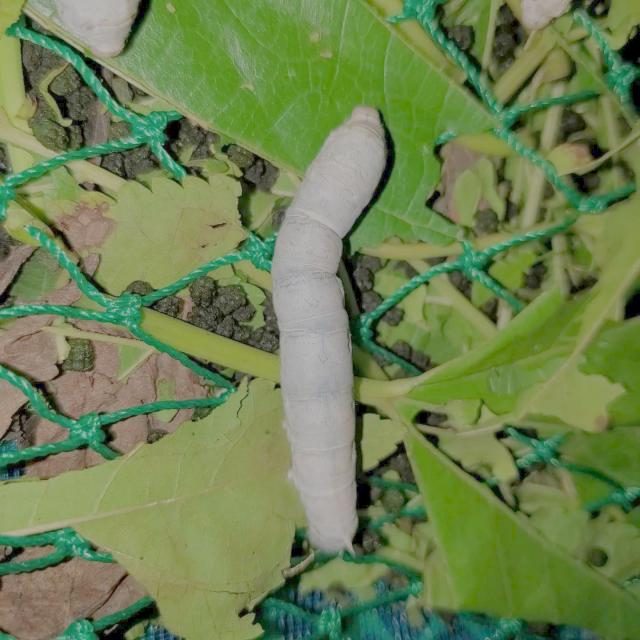Healthy: (258, 89, 404, 573)
